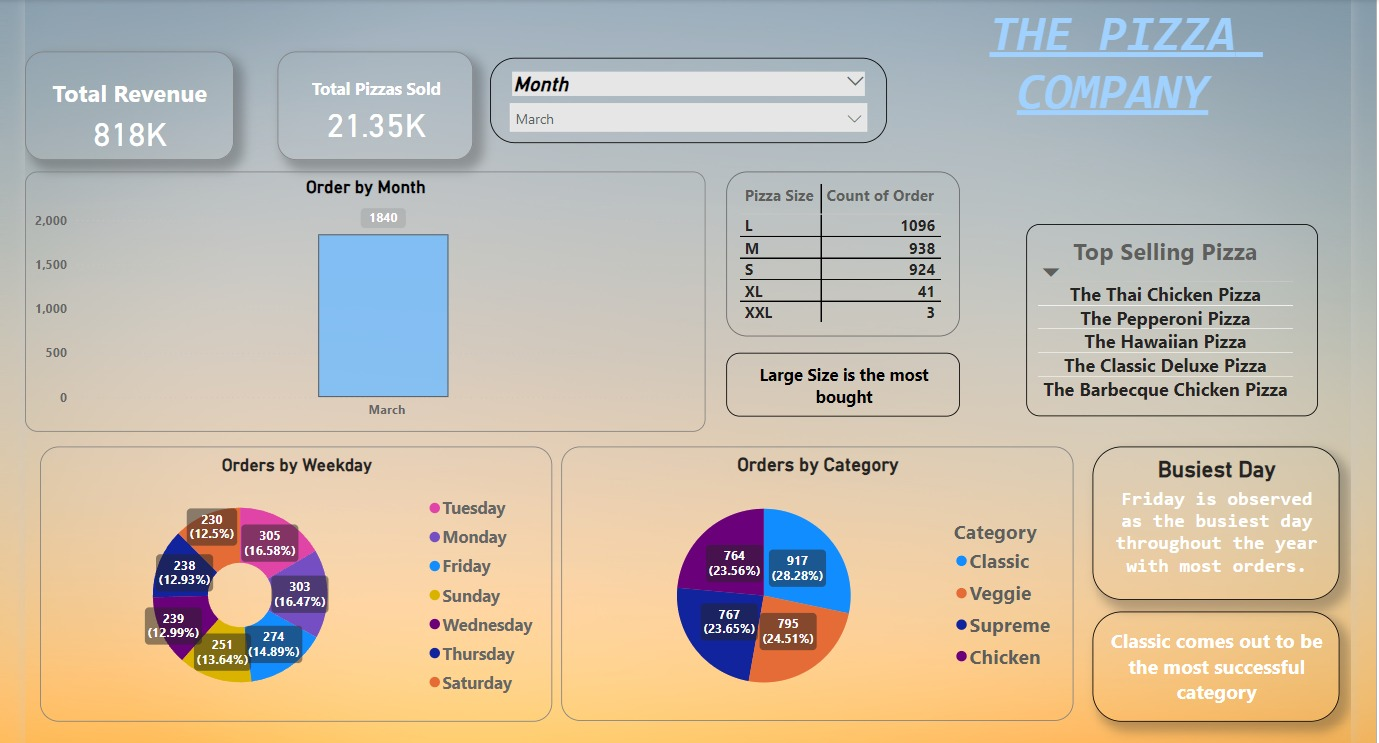

What the dashboard file says about the page in this screenshot:
{"tool":"powerbi","page":{"name":"Page 1","canvas":[1280,720],"ordinal":0},"visuals":[{"type":"cardVisual","fields":{"Data":["Pizza Sales.Total Revenue"]},"box":[0,50.9,201.9,104.9],"z":0},{"type":"cardVisual","fields":{"Data":["Pizza Sales.Total Pizzas Sold"]},"box":[243.2,50.9,189.1,104.9],"z":1000},{"type":"clusteredColumnChart","title":"Order by Month ","fields":{"Category":["Pizza Sales.order_date.Variation.Date Hierarchy.Month"],"Y":["Count(Pizza Sales.order_id)"]},"box":[0,166.9,656.4,251.1],"z":2000},{"type":"donutChart","title":"Orders by Weekday","fields":{"Category":["Pizza Sales.Custom"],"Y":["Count(Pizza Sales.order_id)"]},"box":[14.3,432.3,494.3,265.4],"z":3000},{"type":"pieChart","title":"Orders by Category","fields":{"Category":["Pizza Sales.pizza_category"],"Y":["Count(Pizza Sales.order_id)"]},"box":[518,432,494,265],"z":4000},{"type":"textbox","title":"Busiest Day  ","box":[1029.9,432.3,238.4,147.8],"z":5000},{"type":"textbox","title":"Busiest Day  ","box":[1029.9,591.3,238.4,106.5],"z":6000},{"type":"tableEx","fields":{"Values":["Pizza Sales.Pizza Size","Count(Pizza Sales.Order)"]},"box":[677.1,166.9,225.7,158.9],"z":7000},{"type":"textbox","box":[677.1,341.7,225.7,62],"z":8000},{"type":"tableEx","fields":{"Values":["Table.Column1"]},"box":[966.4,217.7,281.3,186],"z":9000},{"type":"slicer","fields":{"Values":["Pizza Sales.order_date.Variation.Date Hierarchy.Month"]},"box":[448.2,57.2,383,82.6],"z":10000},{"type":"textbox","box":[851.9,0,395.8,155.8],"z":11000}]}

Visuals, with their boxes on the page's 1280x720 design canvas (x1, y1, x2, y2). These are canvas units, not pixel positions in the 1379x743 screenshot, which may show the page scaled, cropped or inside an application window:
cardVisual - Pizza Sales.Total Revenue: (left=0, top=51, right=202, bottom=156)
cardVisual - Pizza Sales.Total Pizzas Sold: (left=243, top=51, right=432, bottom=156)
"Order by Month " clusteredColumnChart: (left=0, top=167, right=656, bottom=418)
"Orders by Weekday" donutChart: (left=14, top=432, right=509, bottom=698)
"Orders by Category" pieChart: (left=518, top=432, right=1012, bottom=697)
"Busiest Day  " textbox: (left=1030, top=432, right=1268, bottom=580)
"Busiest Day  " textbox: (left=1030, top=591, right=1268, bottom=698)
tableEx - Pizza Sales.Pizza Size x Count(Pizza Sales.Order): (left=677, top=167, right=903, bottom=326)
textbox: (left=677, top=342, right=903, bottom=404)
tableEx - Table.Column1: (left=966, top=218, right=1248, bottom=404)
slicer - Pizza Sales.order_date.Variation.Date Hierarchy.Month: (left=448, top=57, right=831, bottom=140)
textbox: (left=852, top=0, right=1248, bottom=156)
